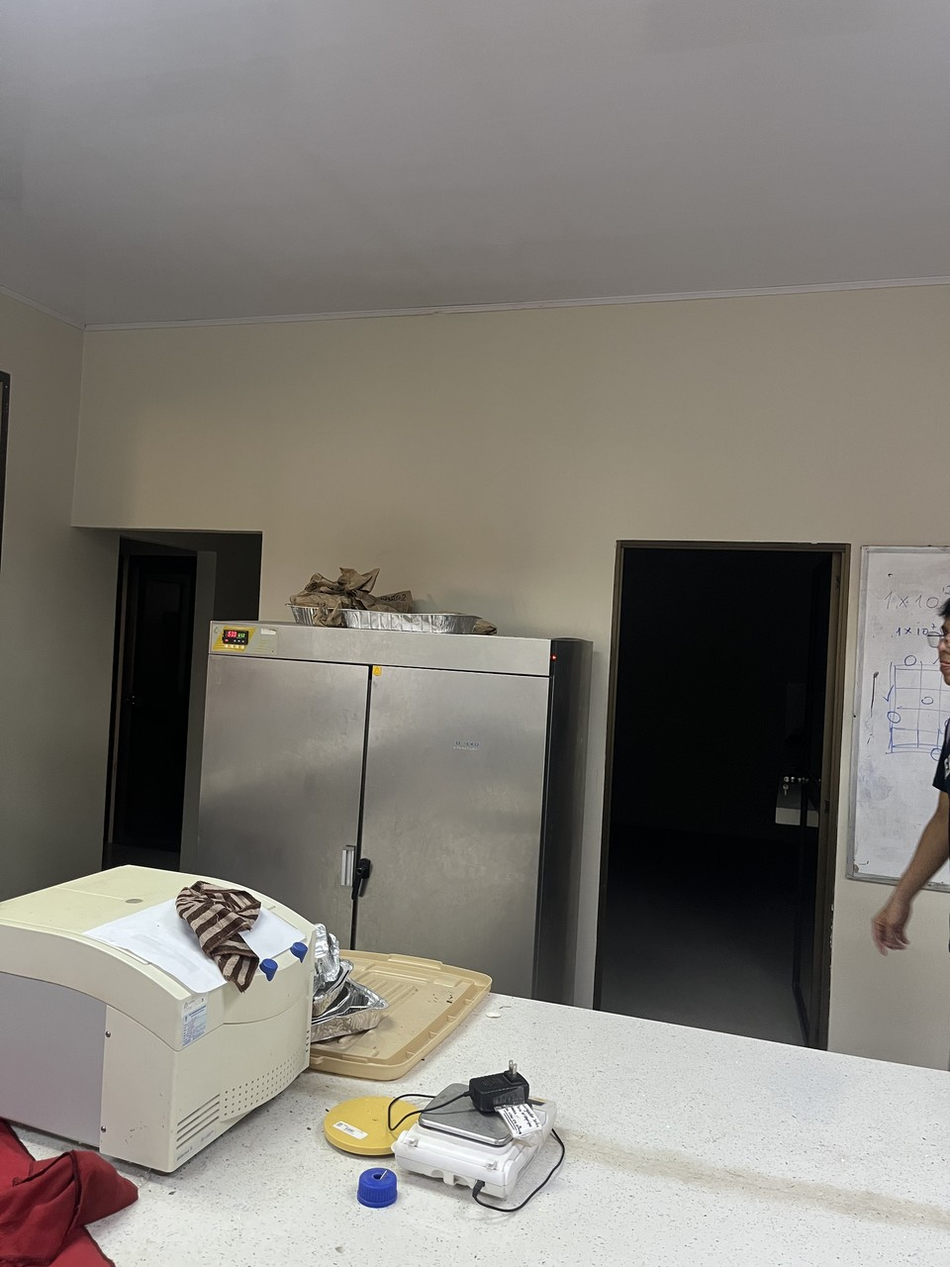ankom_estufa: (157, 514, 606, 999)
